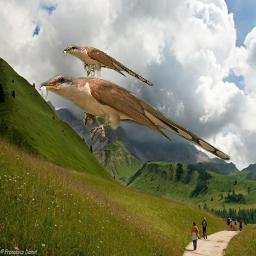Cuckoo: (35, 74, 231, 161), (61, 45, 153, 86)
